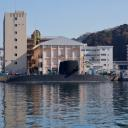submarine: (9, 61, 112, 83)
